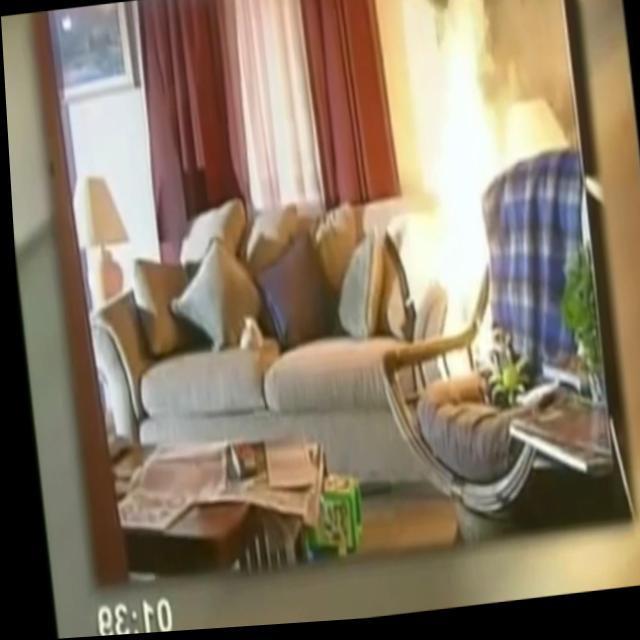fire: (376, 0, 521, 375)
